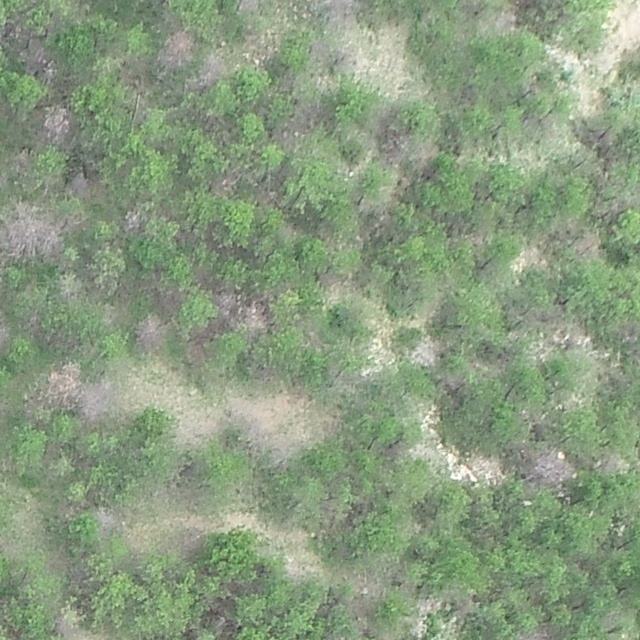unhealthy: (274, 100, 328, 147), (2, 202, 42, 260), (525, 446, 574, 486), (76, 376, 111, 427), (157, 26, 197, 69), (46, 363, 82, 408), (19, 39, 56, 82), (259, 428, 305, 462), (39, 103, 74, 144), (193, 53, 229, 90), (135, 313, 167, 351), (38, 220, 65, 259), (325, 0, 362, 27), (244, 299, 272, 333), (411, 138, 440, 169), (210, 167, 241, 196), (574, 232, 604, 260), (92, 505, 120, 534), (66, 172, 96, 199), (596, 449, 628, 474), (515, 623, 561, 640), (200, 110, 232, 133), (306, 38, 330, 68), (216, 289, 240, 319), (335, 42, 357, 71), (493, 7, 518, 32), (122, 207, 146, 233), (11, 149, 33, 173), (0, 314, 12, 353), (234, 0, 260, 14)
